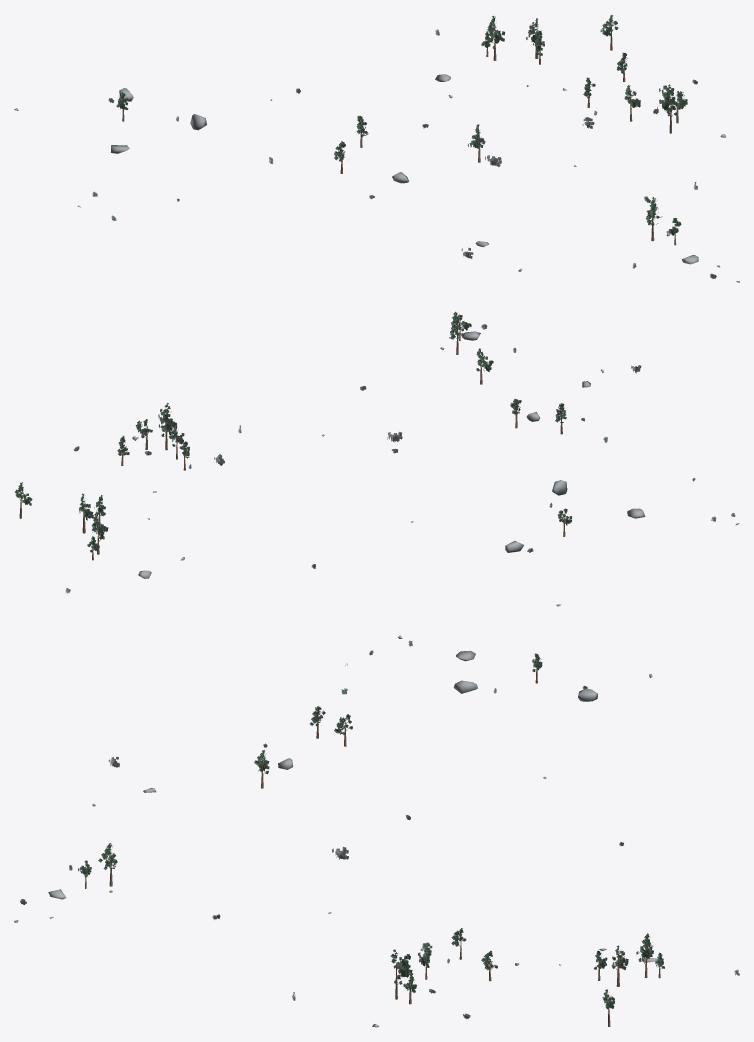
File: frost_land_scatter_c21_12.glb
3 renders of one model, top to bottom at view 1: azimuth 30°, elevation 25°; view 2: azimuth 150°, elevation 25°; view 3: azimuth 270°, elevation 25°, orthographic. The views are drawn at different scales.
Visible parts, largest first — view 1: frost_land_scatter_c21_12; view 2: frost_land_scatter_c21_12; view 3: frost_land_scatter_c21_12.
Boxes of the visible parts, x1,y1,x2,y2 form: frost_land_scatter_c21_12: (14, 15, 739, 282); frost_land_scatter_c21_12: (14, 311, 739, 606); frost_land_scatter_c21_12: (14, 635, 739, 1027).
Bounding box in the file's own units: 194 × 37.9 × 184.
